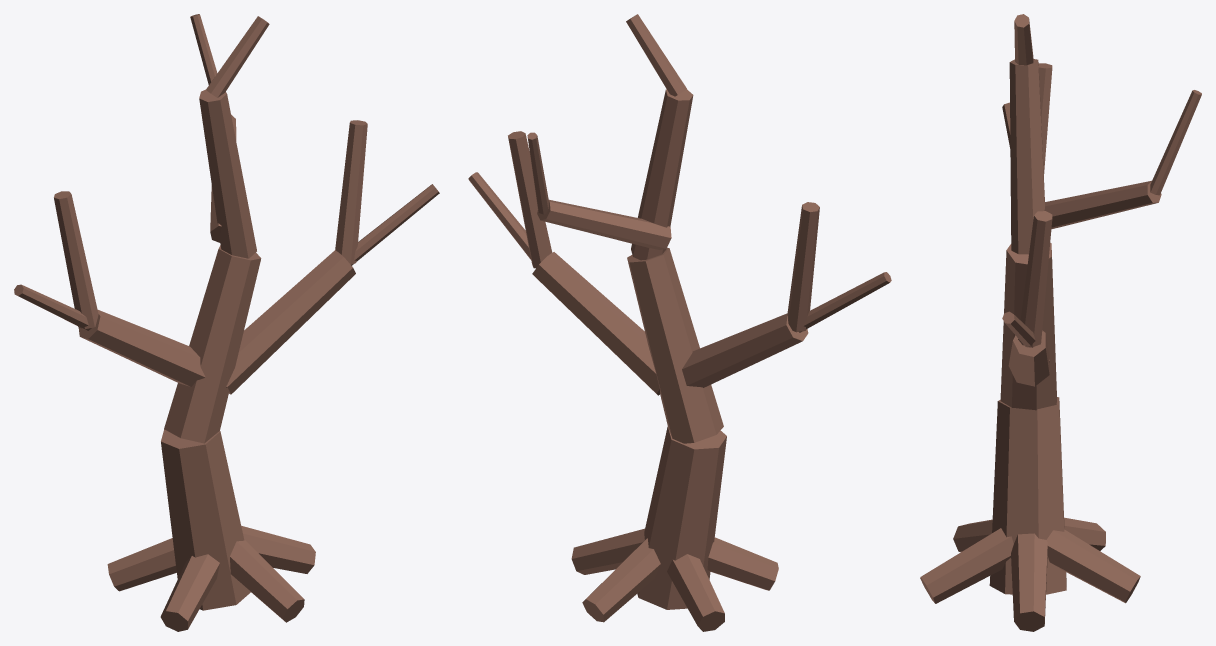
File: moonlit-mischief-crooked-tree-a2622e61__2229.glb
The picture shows the model from 3 angles, left to right: view 1: azimuth 30°, elevation 25°; view 2: azimuth 150°, elevation 25°; view 3: azimuth 270°, elevation 25°; orthographic projection. The views are drawn at different scales.
Parts seen in each view (by area): view 1: crooked-tree; view 2: crooked-tree; view 3: crooked-tree.
Part boxes in pixels (<box>): crooked-tree: <box>14,14,439,631</box>; crooked-tree: <box>468,14,891,631</box>; crooked-tree: <box>920,14,1201,631</box>.
Size of the model in its own units: 1.89 by 2.44 by 1.05.
